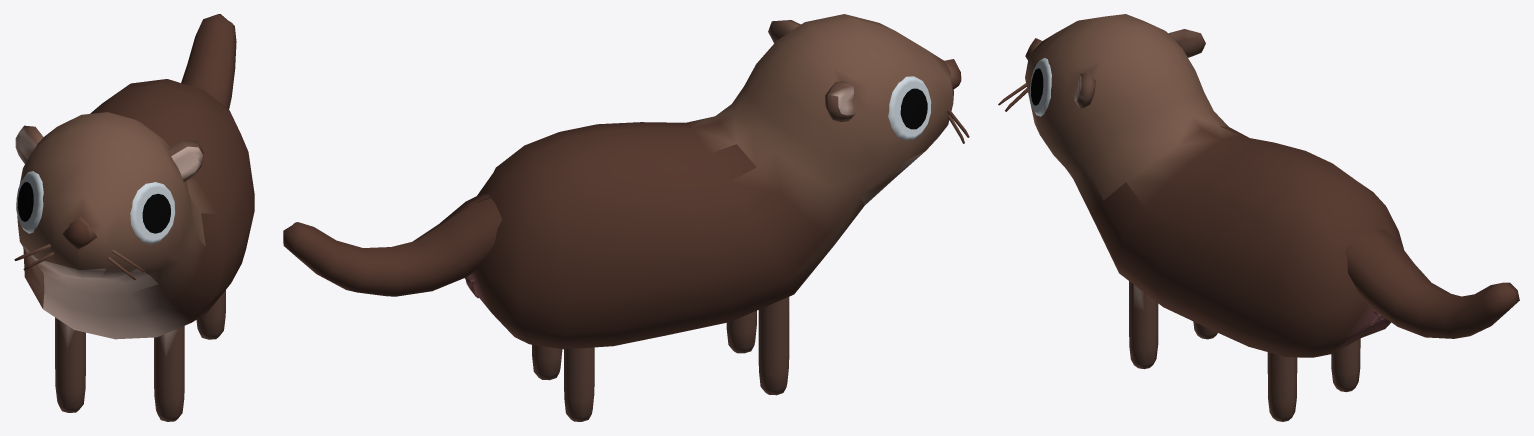
File: SeaOtter.glb
3 renders of one model, left to right at view 1: azimuth 30°, elevation 25°; view 2: azimuth 150°, elevation 25°; view 3: azimuth 270°, elevation 25°, orthographic. The views are drawn at different scales.
Parts seen in each view (by area): view 1: 148; view 2: 148; view 3: 148.
Part boxes in pixels (left/top/right/bottom): 148: left=14, top=14, right=254, bottom=421; 148: left=283, top=14, right=969, bottom=421; 148: left=998, top=14, right=1519, bottom=421.
Bounding box in the file's own units: 0.8898 × 0.6316 × 0.9672.
